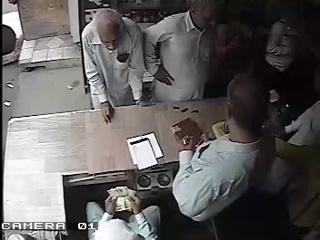Normal: (172, 76, 274, 238), (143, 0, 225, 104), (80, 9, 148, 125), (86, 189, 160, 240)
